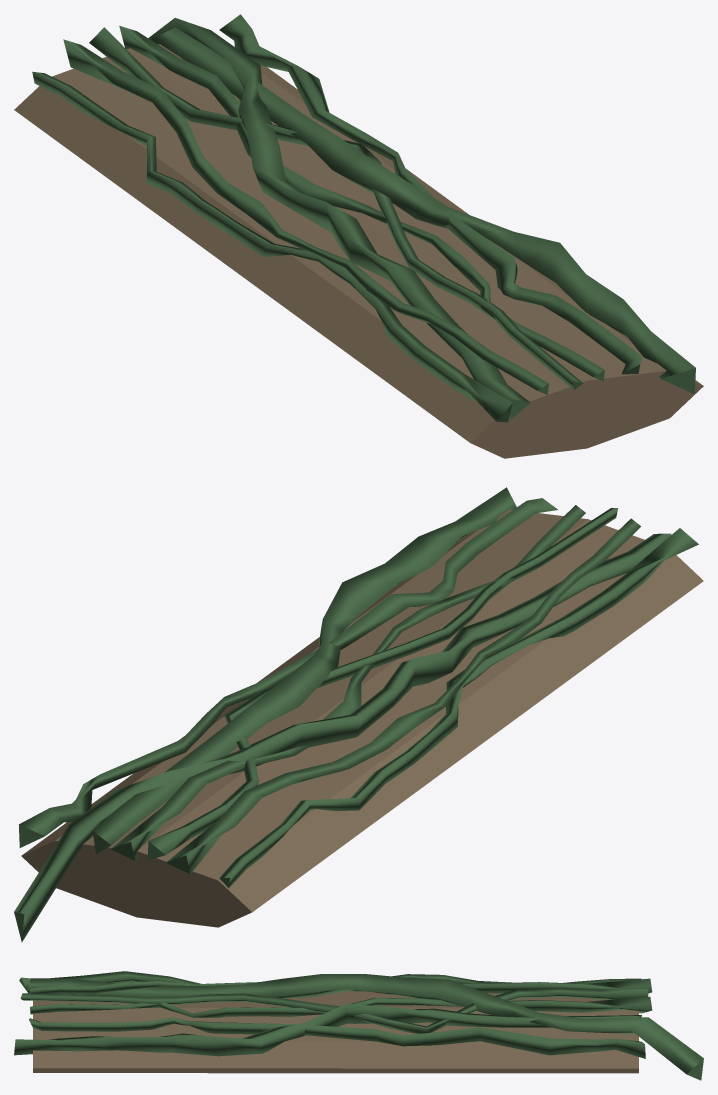
Rendered from plant bridge complete.fbx.
The picture shows the model from 3 angles, top to bottom: view 1: azimuth 30°, elevation 25°; view 2: azimuth 150°, elevation 25°; view 3: azimuth 270°, elevation 25°; orthographic projection. The views are drawn at different scales.
Parts seen in each view (by area): view 1: polySurface1, polySurface10, polySurface2, polySurface11, polySurface4, polySurface3, polySurface7, polySurface9; view 2: polySurface1, polySurface2, polySurface10, polySurface4, polySurface11, polySurface3, polySurface7, polySurface9; view 3: polySurface1, polySurface2, polySurface10, polySurface4, polySurface7, polySurface9, polySurface3, polySurface11.
Boxes of the visible parts, bbox=[...] form: polySurface1: bbox=[14, 44, 703, 458]; polySurface10: bbox=[152, 27, 695, 394]; polySurface2: bbox=[148, 18, 530, 419]; polySurface11: bbox=[32, 71, 512, 422]; polySurface4: bbox=[219, 14, 642, 374]; polySurface3: bbox=[63, 39, 548, 394]; polySurface7: bbox=[89, 27, 583, 389]; polySurface9: bbox=[119, 26, 604, 381]; polySurface1: bbox=[21, 509, 703, 927]; polySurface2: bbox=[14, 533, 671, 942]; polySurface10: bbox=[92, 487, 516, 854]; polySurface4: bbox=[18, 498, 557, 847]; polySurface11: bbox=[219, 528, 698, 887]; polySurface3: bbox=[166, 518, 640, 874]; polySurface7: bbox=[147, 508, 617, 860]; polySurface9: bbox=[111, 505, 585, 860]; polySurface1: bbox=[33, 991, 638, 1073]; polySurface2: bbox=[26, 974, 703, 1080]; polySurface10: bbox=[14, 1004, 641, 1056]; polySurface4: bbox=[29, 1017, 645, 1058]; polySurface7: bbox=[20, 987, 648, 1033]; polySurface9: bbox=[30, 996, 652, 1017]; polySurface3: bbox=[30, 978, 652, 994]; polySurface11: bbox=[19, 971, 641, 993].
Size of the model in its own units: 7.34 by 3.13 by 27.77.
